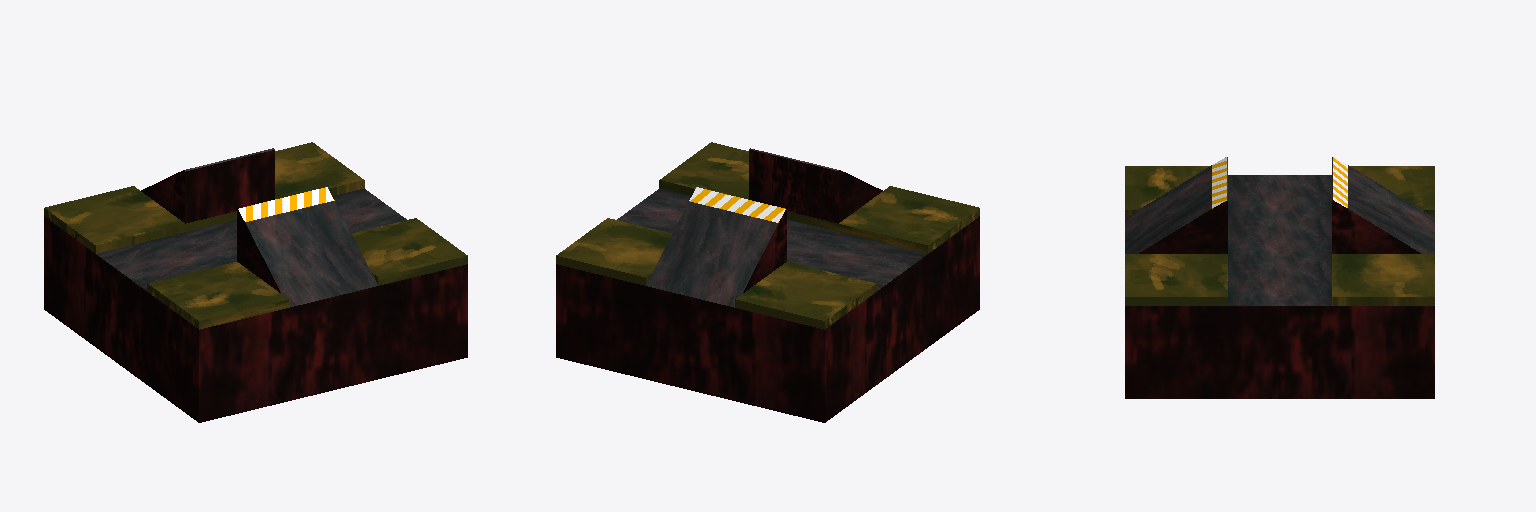
The picture shows the model from 3 angles: view 1: azimuth 30°, elevation 25°; view 2: azimuth 150°, elevation 25°; view 3: azimuth 270°, elevation 25°; orthographic projection.
Visible parts, largest first — view 1: cross; view 2: cross; view 3: cross.
Part boxes in pixels (bbox=[...]): cross: bbox=[44, 142, 467, 422]; cross: bbox=[556, 142, 979, 422]; cross: bbox=[1125, 157, 1434, 398].
Bounding box in the file's own units: 1 × 0.5517 × 1.
Materials: 4 (4 with a texture image).